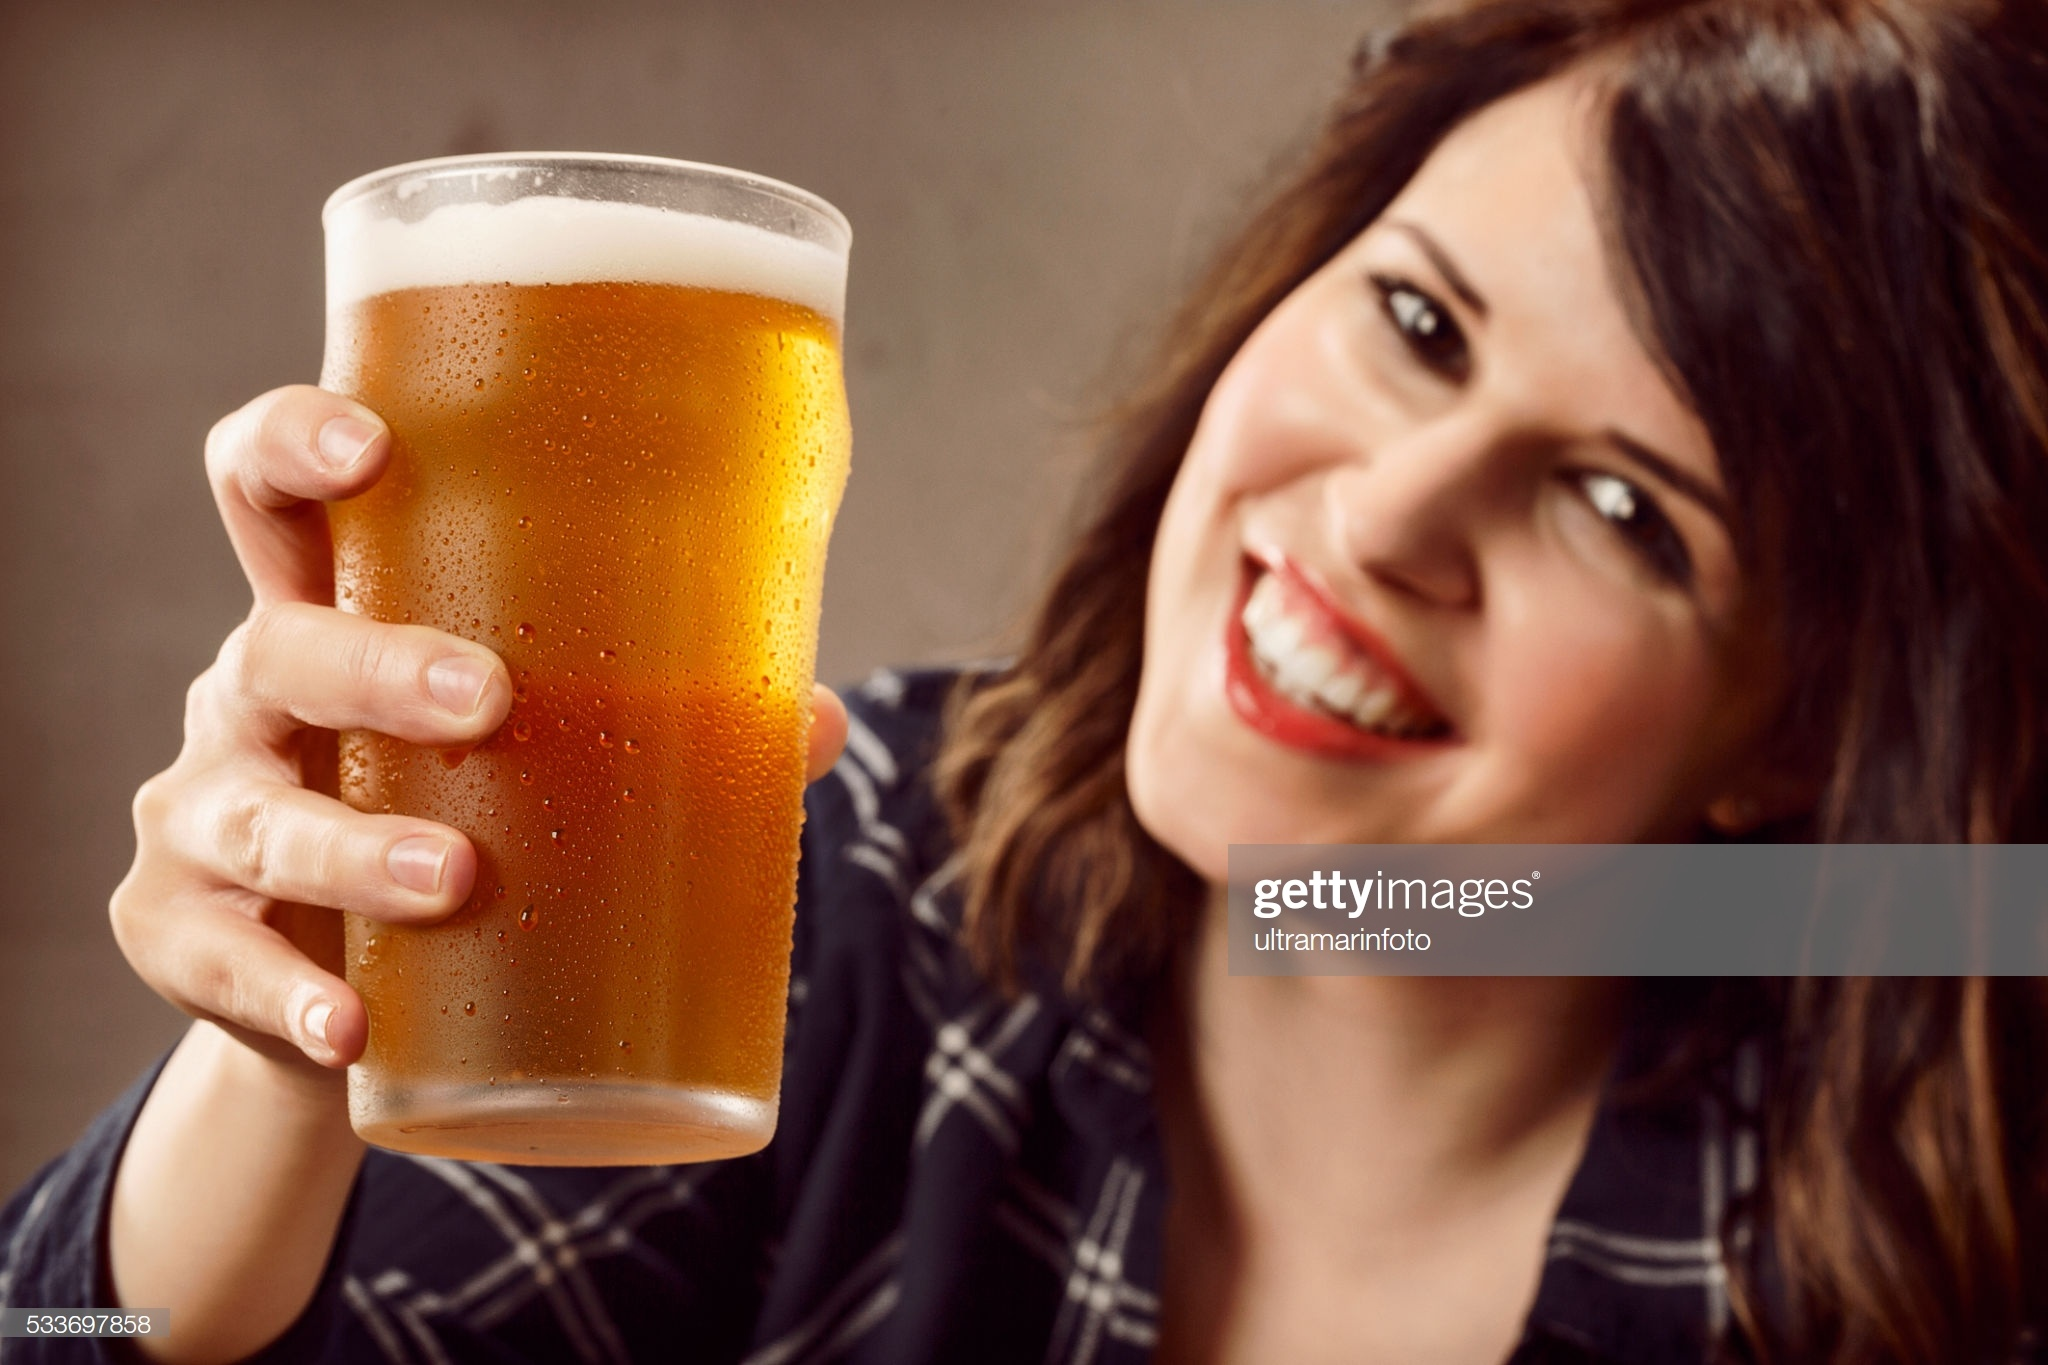glassBeer: (324, 142, 857, 1143)
